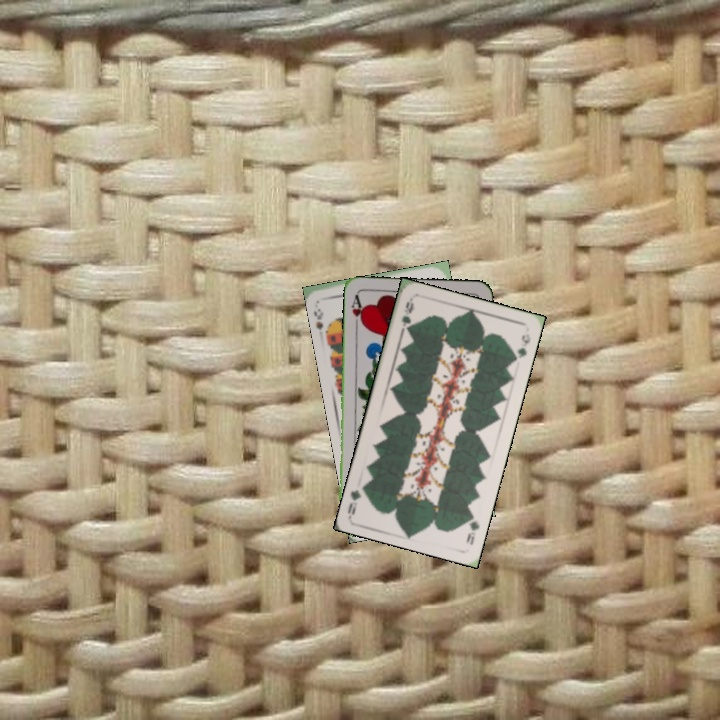G9: (462, 507, 482, 548), (397, 295, 416, 335)
HA: (347, 291, 367, 332)
S9: (310, 304, 333, 339)
